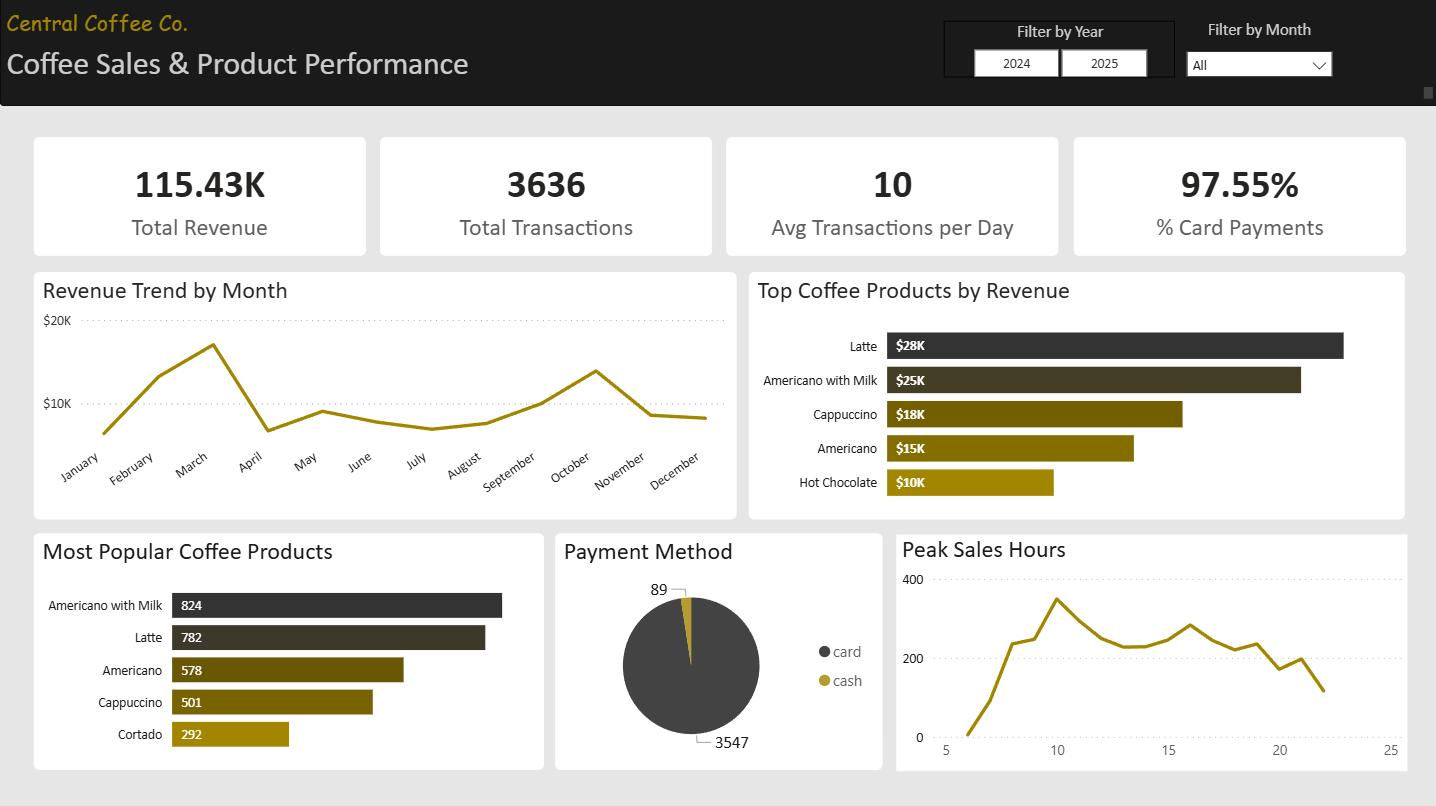

What the dashboard file says about the page in this screenshot:
{"tool":"powerbi","page":{"name":"Page 1","canvas":[1280,720],"ordinal":0},"visuals":[{"type":"card","fields":{"Values":["coffee_sales.Total Revenue"]},"box":[30,124.4,295,105.6],"z":0},{"type":"card","fields":{"Values":["coffee_sales.Total Transactions"]},"box":[337.8,124.4,295.6,105.6],"z":1000},{"type":"card","fields":{"Values":["coffee_sales.Avg Transactions per Day"]},"box":[645.6,124.4,295.6,105.6],"z":2000},{"type":"card","fields":{"Values":["coffee_sales.% Card Payments"]},"box":[954.4,124.4,295.6,105.6],"z":3000},{"type":"lineChart","title":"Revenue Trend by  Month","fields":{"Category":["coffee_sales.date.Variation.Date Hierarchy.Month","coffee_sales.date.Variation.Date Hierarchy.Day"],"Y":["Sum(coffee_sales.money)"]},"box":[30,244.4,624.4,220],"z":4000},{"type":"clusteredBarChart","title":"Most Popular Coffee Products","fields":{"Y":["coffee_sales.Total Transactions"],"Category":["coffee_sales.coffee_name"]},"box":[30,476.7,453.3,210],"z":5000},{"type":"clusteredBarChart","title":"Top Coffee Products by Revenue","fields":{"Category":["coffee_sales.coffee_name"],"Y":["coffee_sales.Total Revenue"]},"box":[665.6,244.4,583.3,220],"z":6000},{"type":"pieChart","title":"Payment Method","fields":{"Category":["coffee_sales.cash_type"],"Y":["coffee_sales.Total Transactions"]},"box":[493.3,476.7,291.1,210],"z":7000},{"type":"lineChart","title":"Peak Sales Hours","fields":{"Category":["coffee_sales.hour"],"Y":["coffee_sales.Total Transactions"]},"box":[796.7,477.8,454.4,210],"z":8000},{"type":"textbox","title":"Central Coffee Co.","box":[0,0,1280,96.7],"z":9000},{"type":"slicer","title":"Filter by Year","fields":{"Values":["coffee_sales.year"]},"box":[838.9,21.1,205.6,50],"z":9001},{"type":"slicer","title":"Filter by Month","fields":{"Values":["coffee_sales.month"]},"box":[1044.4,20,150,50],"z":9002}]}

Visuals, with their boxes in screenshot pixels (x1, y1, x2, y2), scaled from the page's 1280x720 canvas onto the 1436x806 screenshot:
card - coffee_sales.Total Revenue: Rect(34, 139, 365, 257)
card - coffee_sales.Total Transactions: Rect(379, 139, 711, 257)
card - coffee_sales.Avg Transactions per Day: Rect(724, 139, 1056, 257)
card - coffee_sales.% Card Payments: Rect(1071, 139, 1402, 257)
"Revenue Trend by  Month" lineChart: Rect(34, 274, 734, 520)
"Most Popular Coffee Products" clusteredBarChart: Rect(34, 534, 542, 769)
"Top Coffee Products by Revenue" clusteredBarChart: Rect(747, 274, 1401, 520)
"Payment Method" pieChart: Rect(553, 534, 880, 769)
"Peak Sales Hours" lineChart: Rect(894, 535, 1404, 770)
"Central Coffee Co." textbox: Rect(0, 0, 1435, 108)
"Filter by Year" slicer: Rect(941, 24, 1172, 80)
"Filter by Month" slicer: Rect(1172, 22, 1340, 78)
